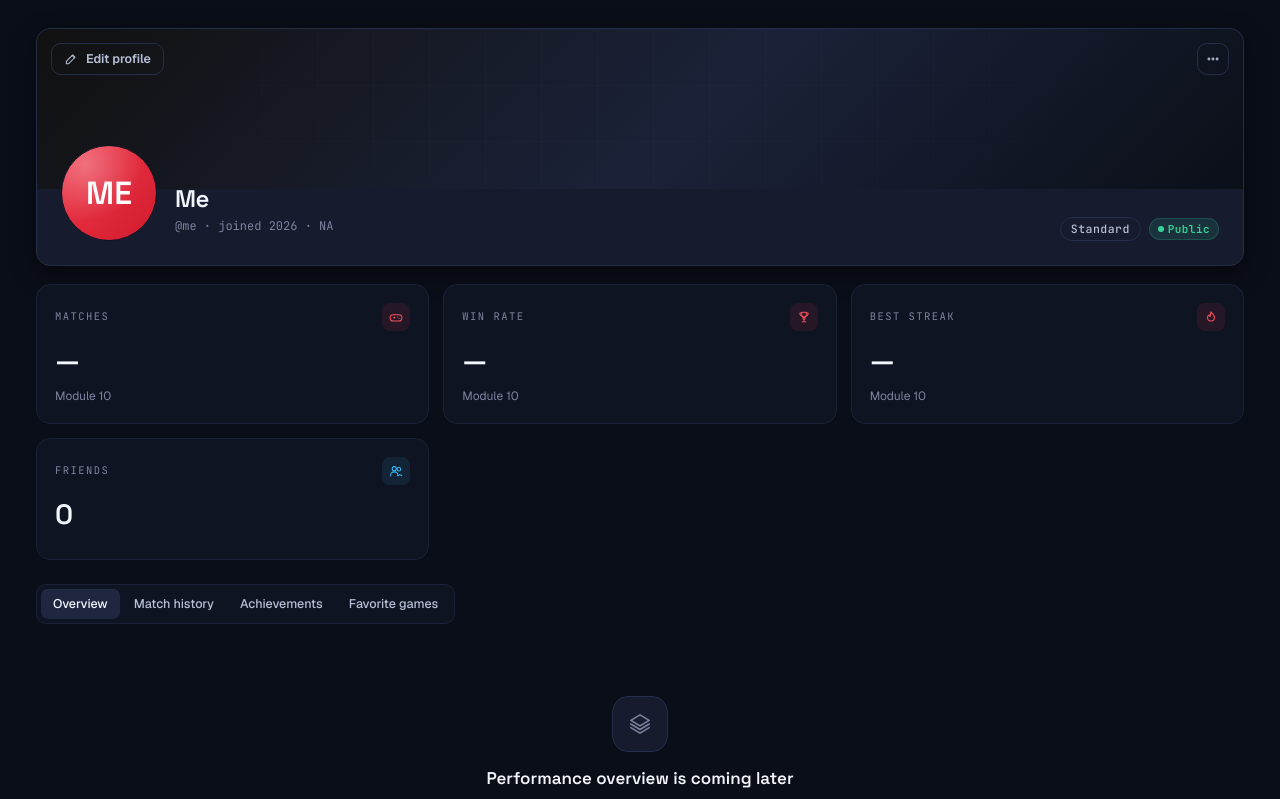
ProfilePage — Favorite games tab › shows an error state with retry on favorites load failure
Expected: the heading "Me" is shown, [175,183,209,214]
Click the tab "Favorite games": (394, 604) [337,589,450,619]
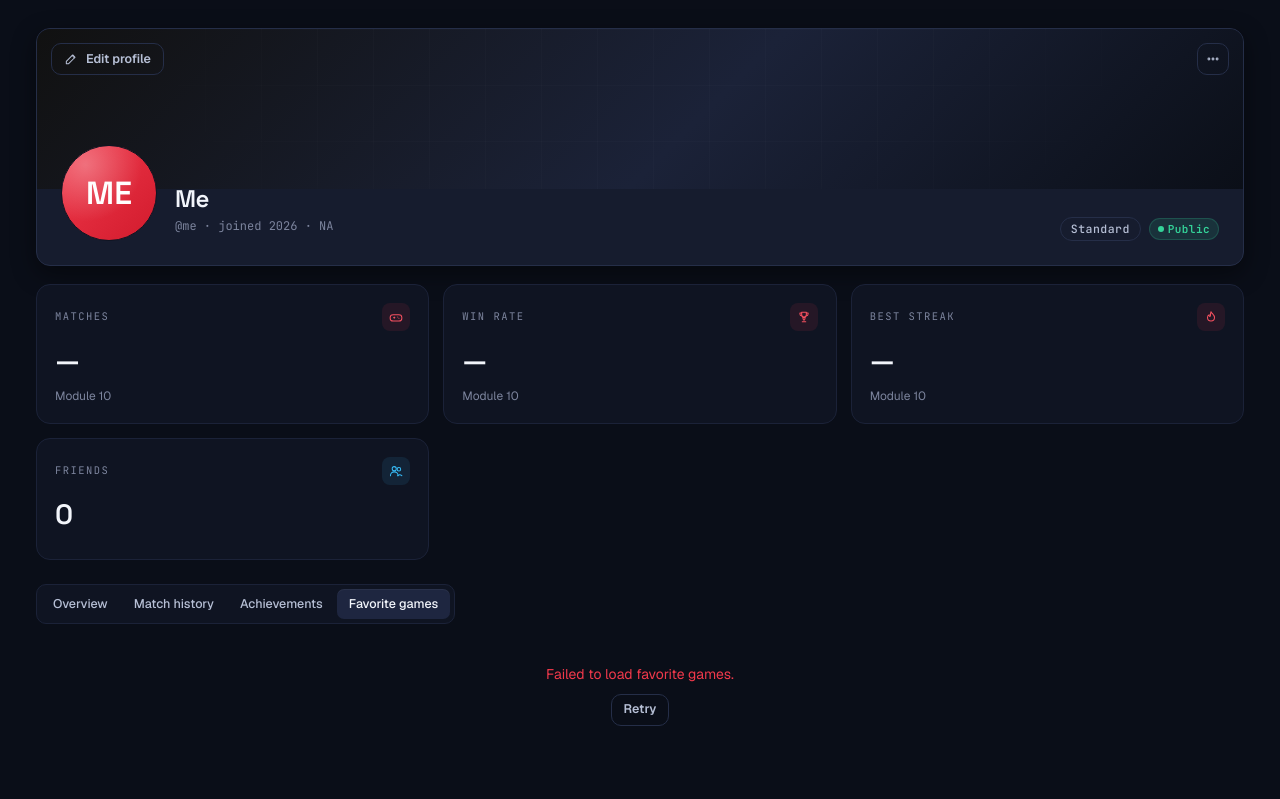
Result: the text "Failed to load favorite games." is shown at [546,665,734,683]
Click the button "Retry": (640, 710) [611,694,669,726]
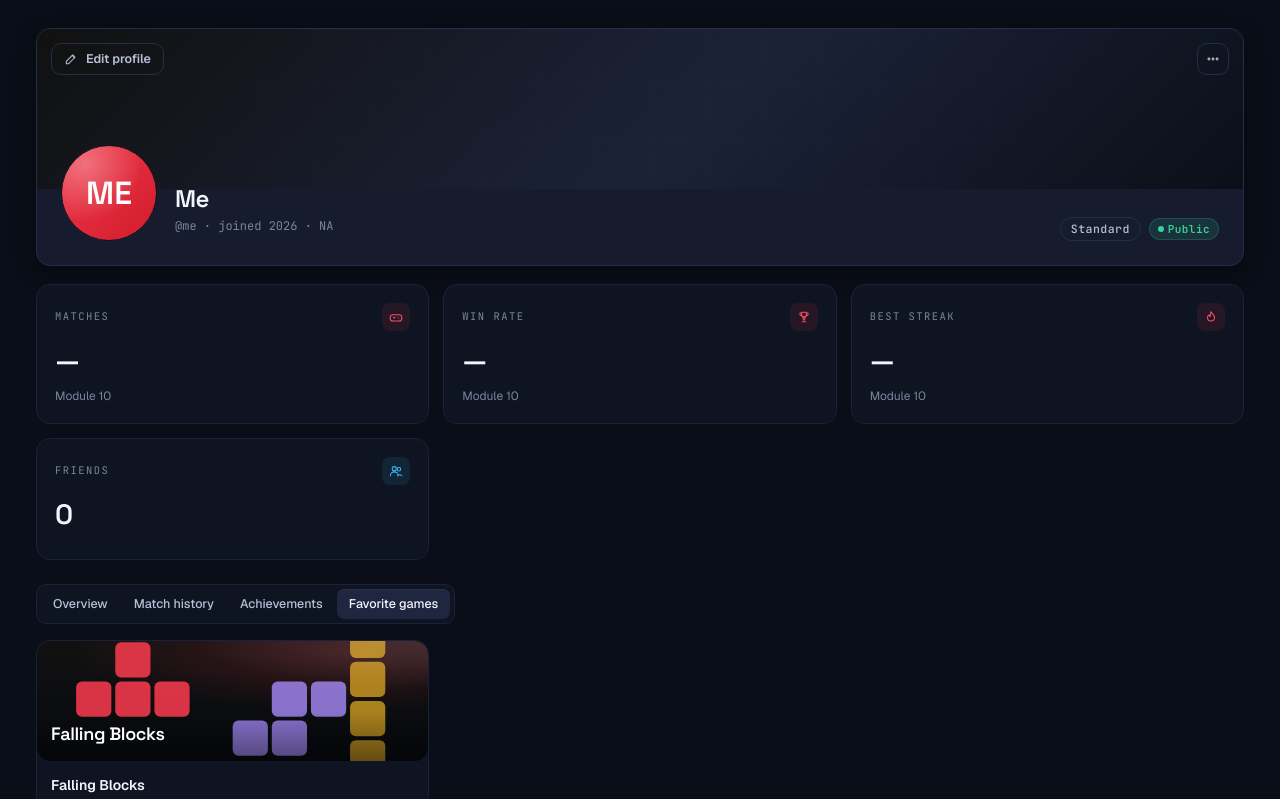
Result: the 1st text "Falling Blocks" is shown at [51,722,165,745]
